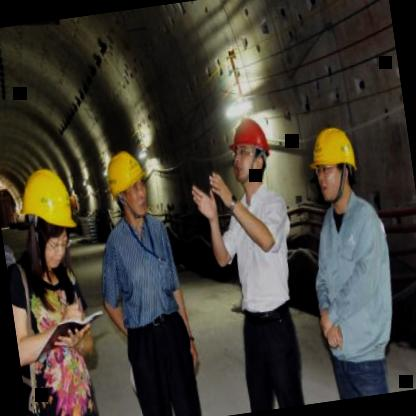helmet: (14, 165, 83, 271), (301, 119, 364, 206), (221, 108, 278, 193), (100, 144, 152, 222)
